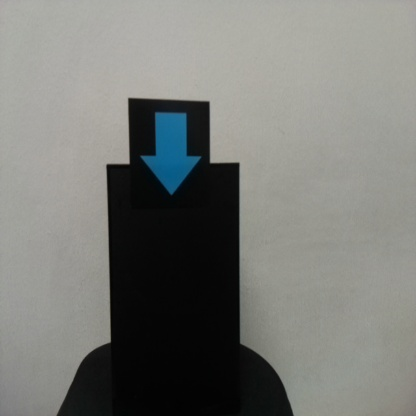id_2: (128, 98, 211, 206)
